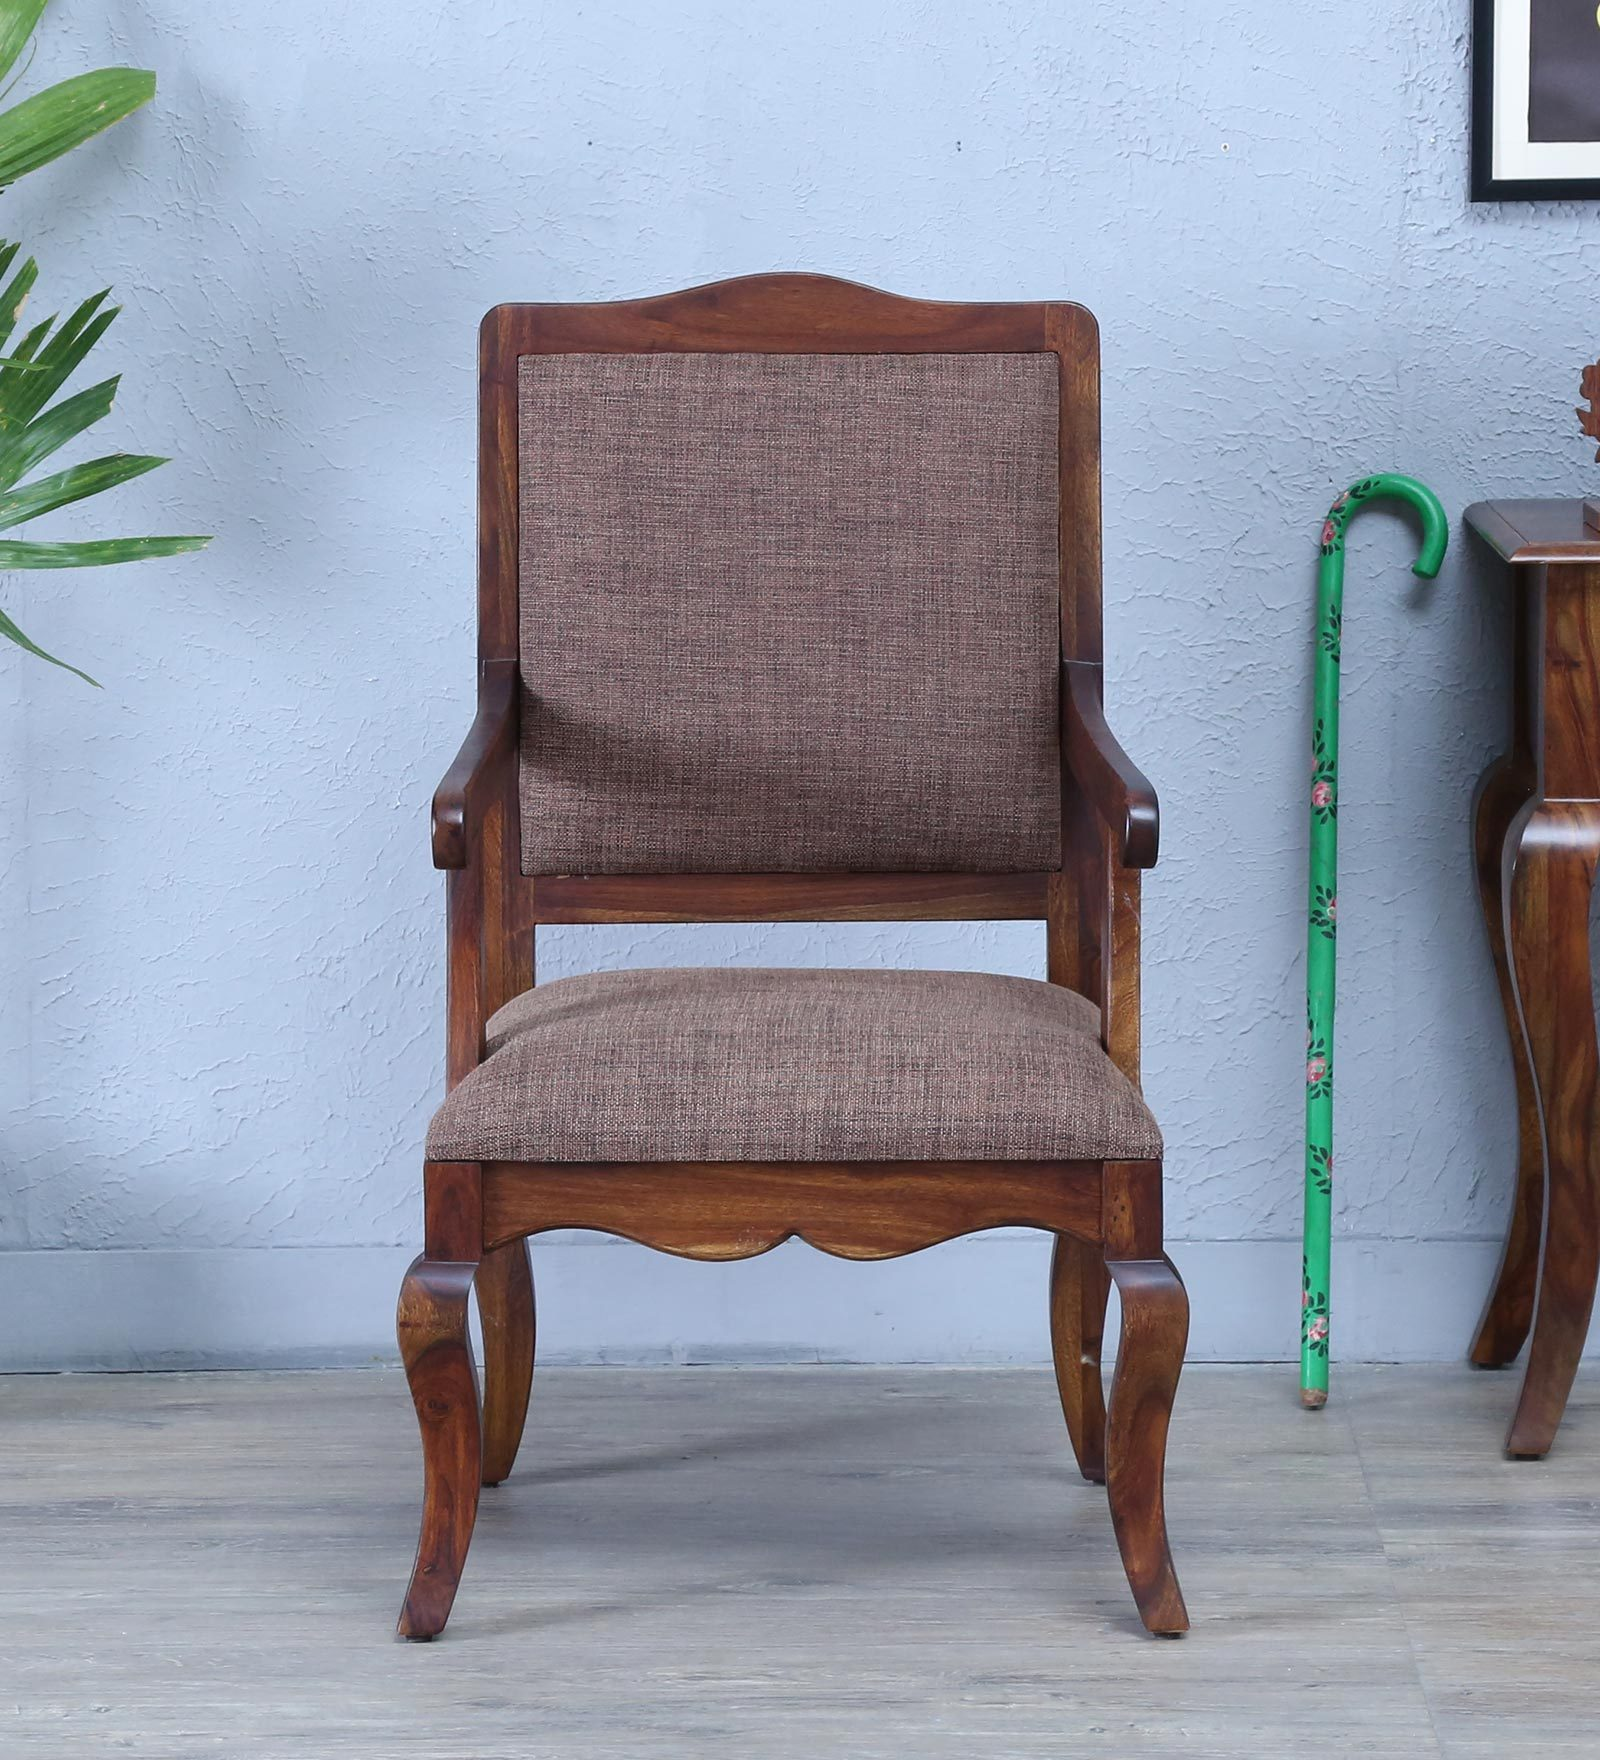Anne Arm Chair in Provincial Teak Finish by Amberville: (362, 244, 1223, 1671)
